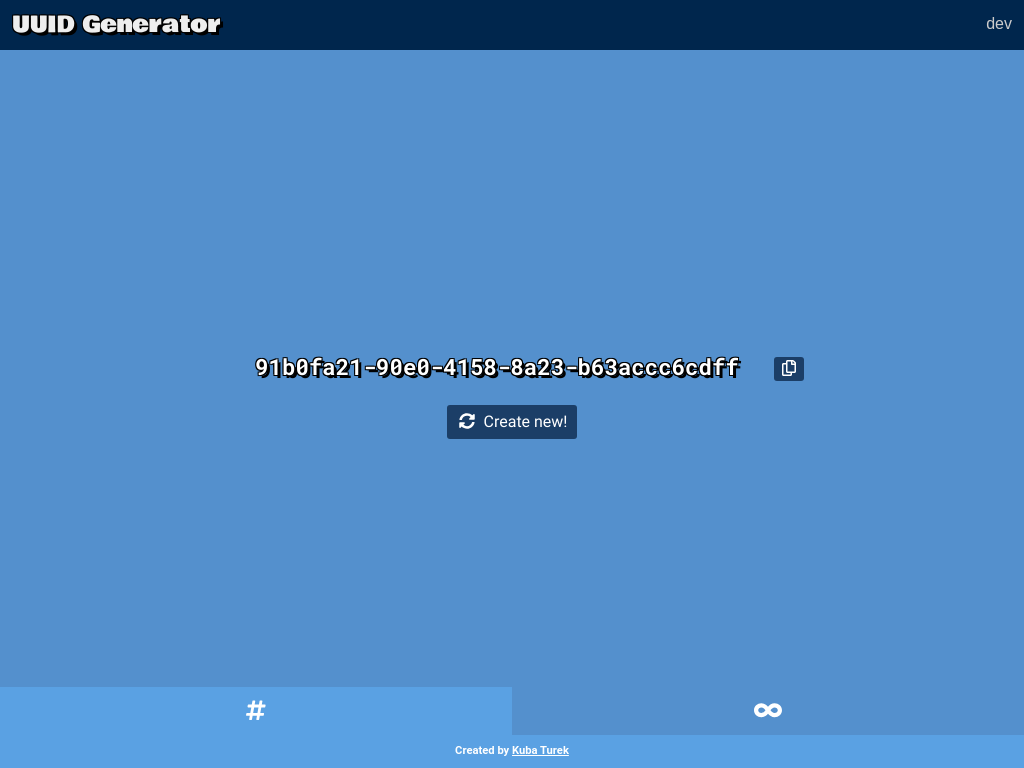
Multi UUID generation › should use different options together
Click the button with test id "multi-mode-switcher": [768, 712] box [512,687,1023,737]
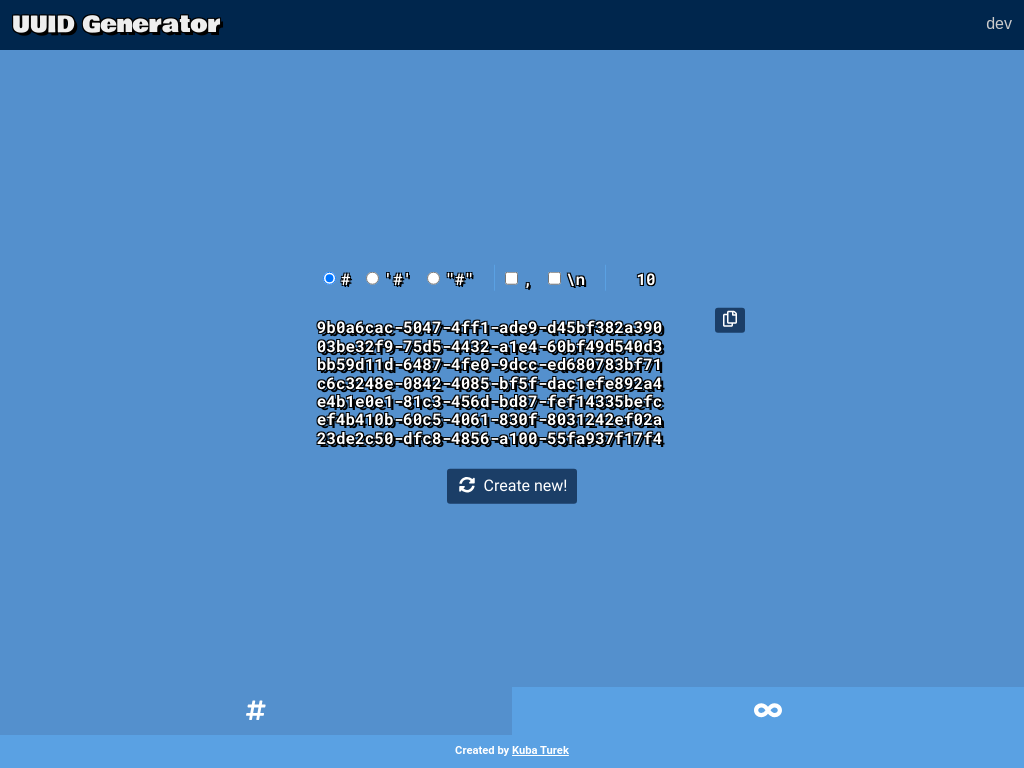
Check the radio button with test id "radio_quotes_single": [373, 279] box [366,272,379,285]
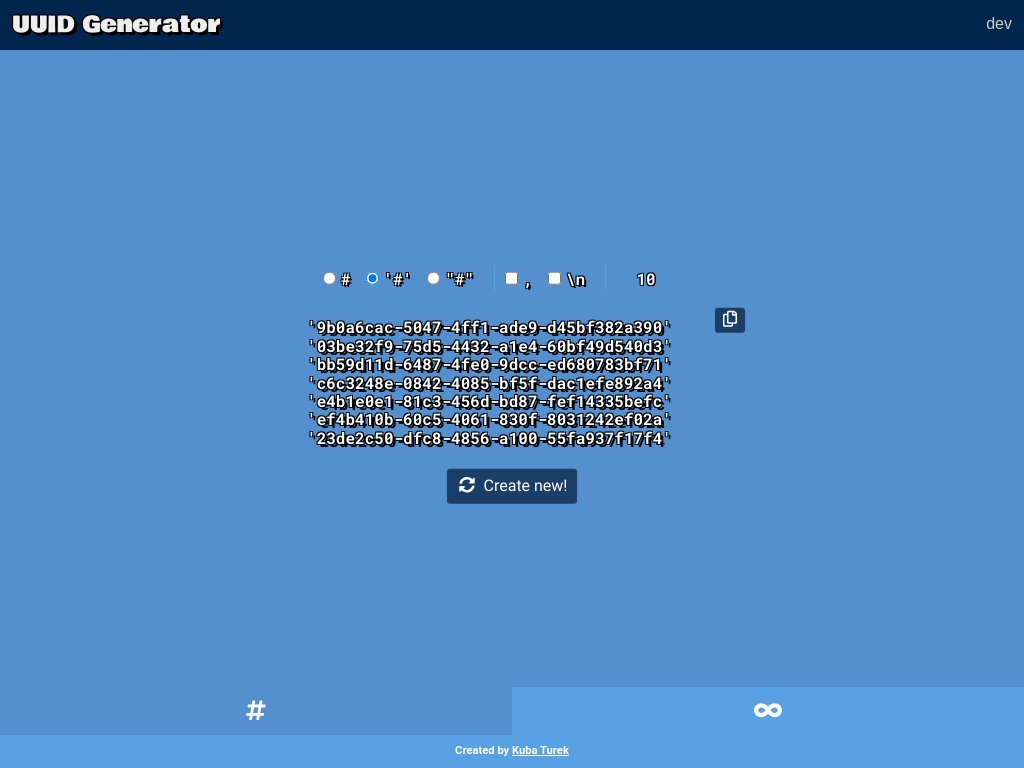
Check the checkbox with test id "checkbox_comma": [512, 279] box [505,272,518,285]
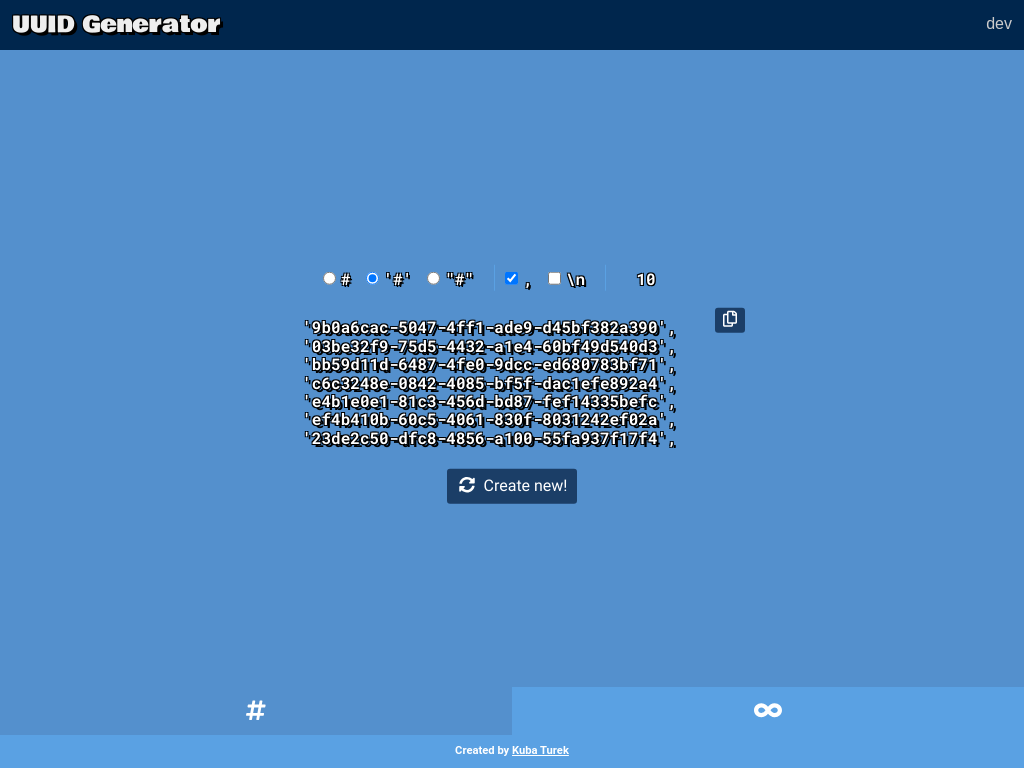
Check the checkbox with test id "checkbox_newline": [555, 279] box [548,272,561,285]
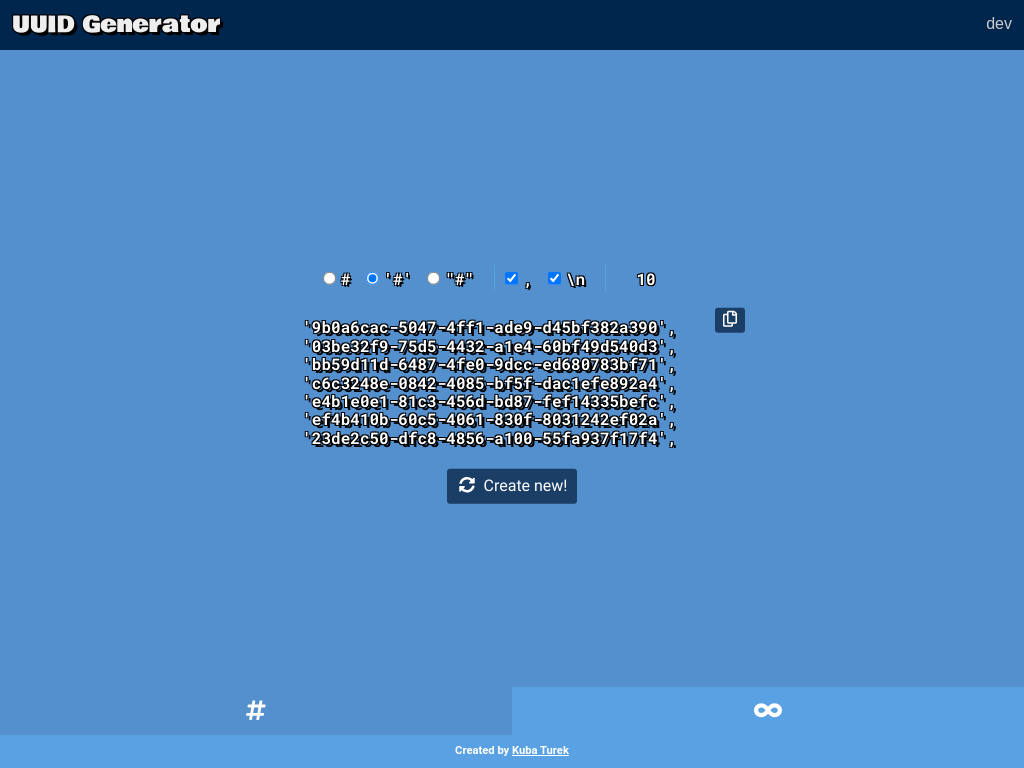
Replace the text in the number field with test id "size-selector" with "5": [659, 279] box [616,265,701,293]
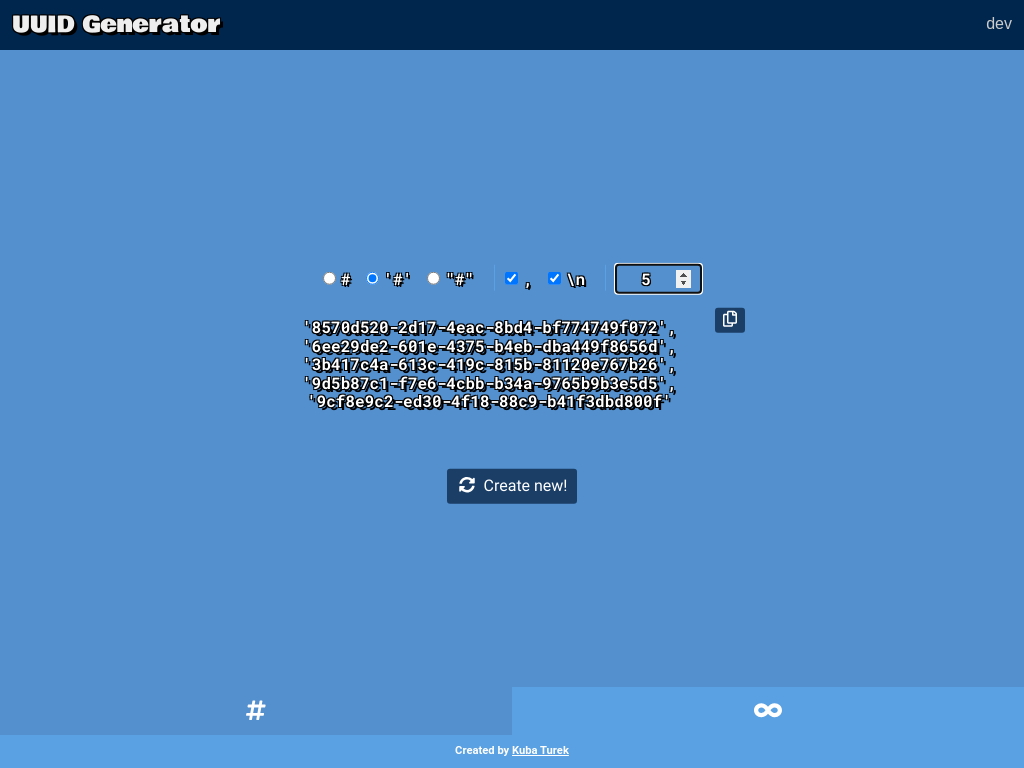
Check: the text box with test id "multi-uuid-value" holds "('[0-9a-f\\-]+',\\n){4}'[0-9a-f\\-]+'", box [285,308,695,448]
